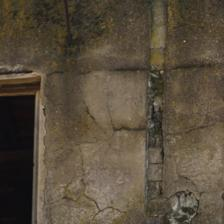Crack: (26, 27, 128, 100), (90, 0, 130, 78), (77, 50, 148, 89), (30, 51, 76, 89), (45, 22, 60, 67), (29, 11, 53, 29)
